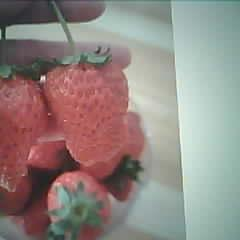straw-ripe: (43, 57, 130, 164), (0, 68, 45, 188)
